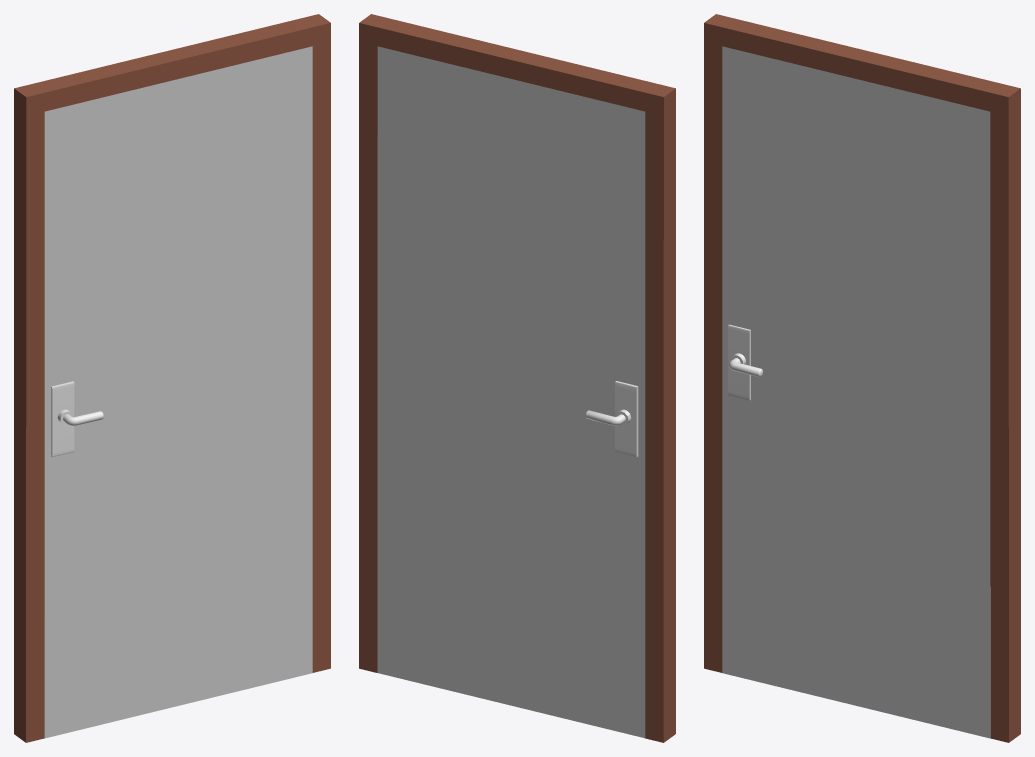
File: DRZWIPRZEN.fbx
3 renders of one model, left to right at view 1: azimuth 30°, elevation 25°; view 2: azimuth 150°, elevation 25°; view 3: azimuth 330°, elevation 25°, orthographic.
Visible parts, largest first — view 1: Cube, drzwiofficial__1_; view 2: Cube, drzwiofficial__1_; view 3: Cube, drzwiofficial__1_.
Boxes of the visible parts, bbox=[...] form: Cube: bbox=[44, 46, 312, 738]; drzwiofficial__1_: bbox=[14, 14, 330, 742]; Cube: bbox=[377, 46, 645, 738]; drzwiofficial__1_: bbox=[359, 14, 675, 742]; Cube: bbox=[722, 46, 990, 738]; drzwiofficial__1_: bbox=[704, 14, 1020, 742].
Bounding box in the file's own units: 102 × 206 × 20.19.
